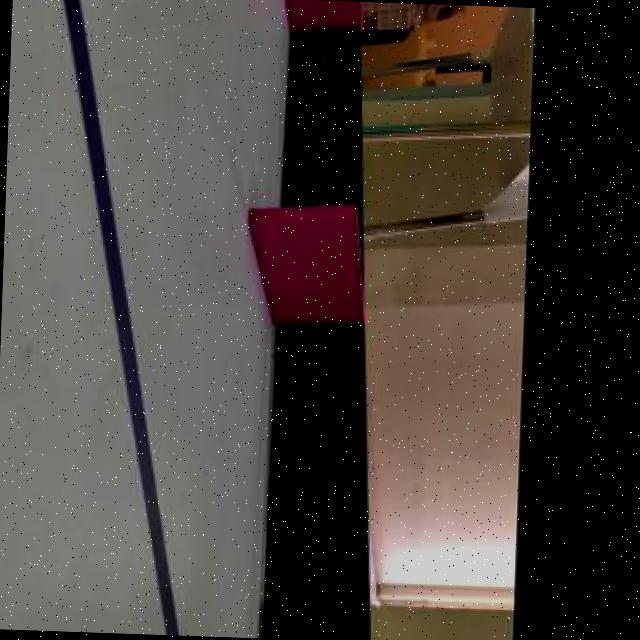xparking: (259, 207, 364, 318), (287, 0, 362, 26)
